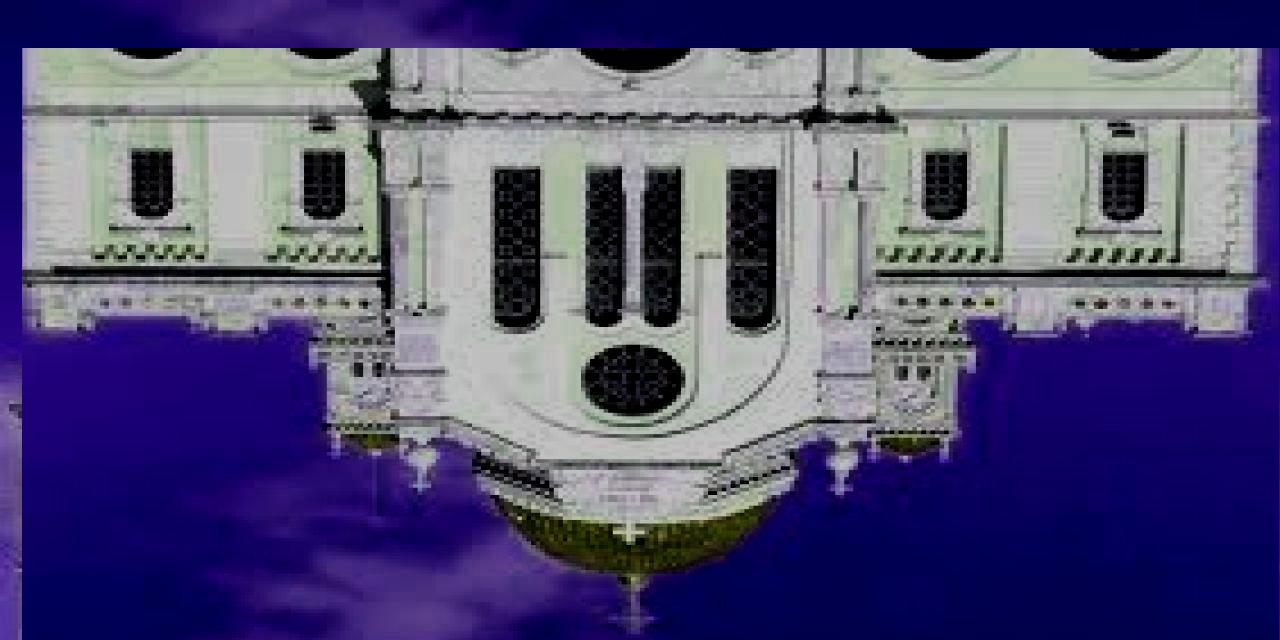Agios Minas: (23, 49, 1280, 640)
